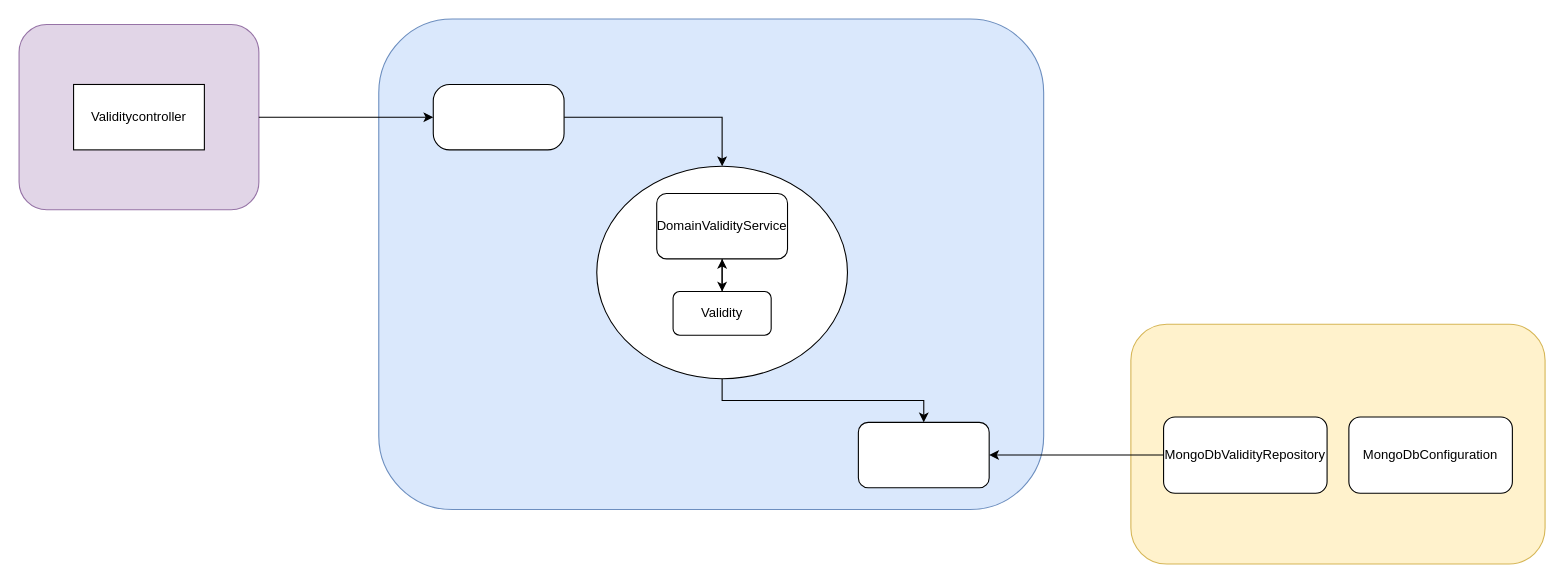
Some shapes in this 1564 by 583 pixel diagram are drawn without their labels. Each missing label, with the box of its shape:
ValidityRepository: (857, 421, 989, 488)
ValidityService: (432, 83, 564, 150)
